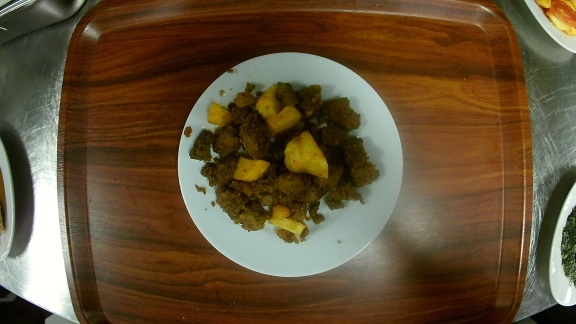arnavutcigeri: (177, 50, 405, 278)
